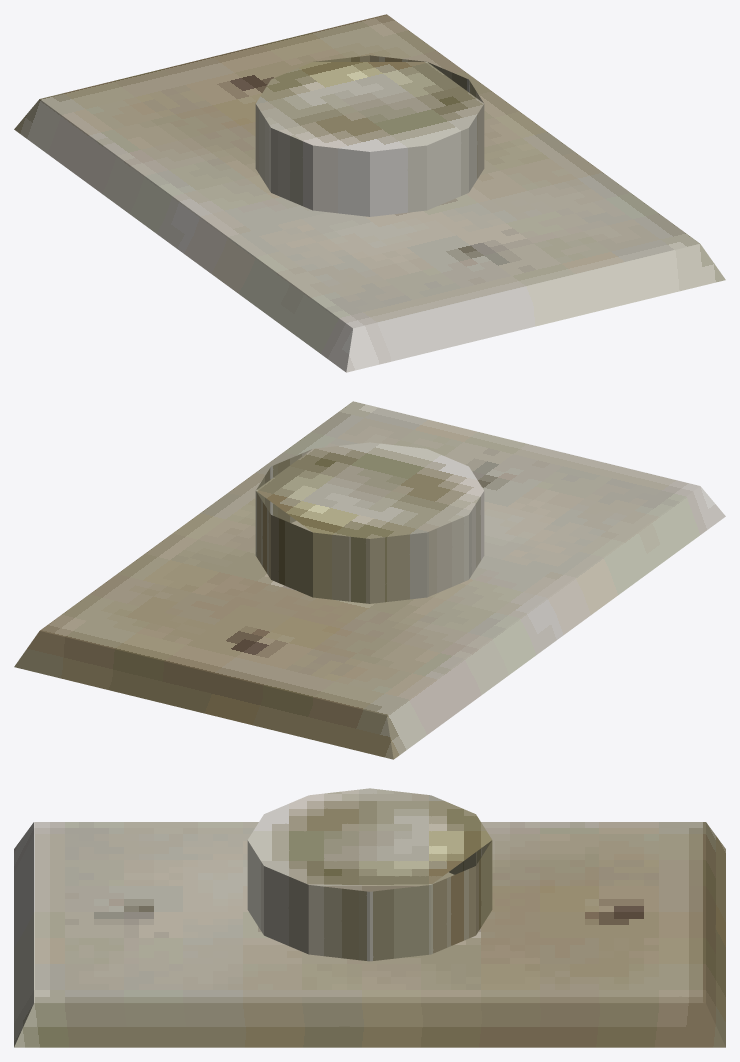
File: dimmerswitch.fbx
3 renders of one model, top to bottom at view 1: azimuth 30°, elevation 25°; view 2: azimuth 150°, elevation 25°; view 3: azimuth 270°, elevation 25°, orthographic. The views are drawn at different scales.
Parts seen in each view (by area): view 1: mesh_0; view 2: mesh_0; view 3: mesh_0.
Part boxes in pixels (x1,y1,x2,y2): mesh_0: (14,14,725,372); mesh_0: (14,401,725,759); mesh_0: (14,788,725,1047).
Bounding box in the file's own units: 11.91 × 3.03 × 18.05.
Materials: 1 (1 with a texture image).
